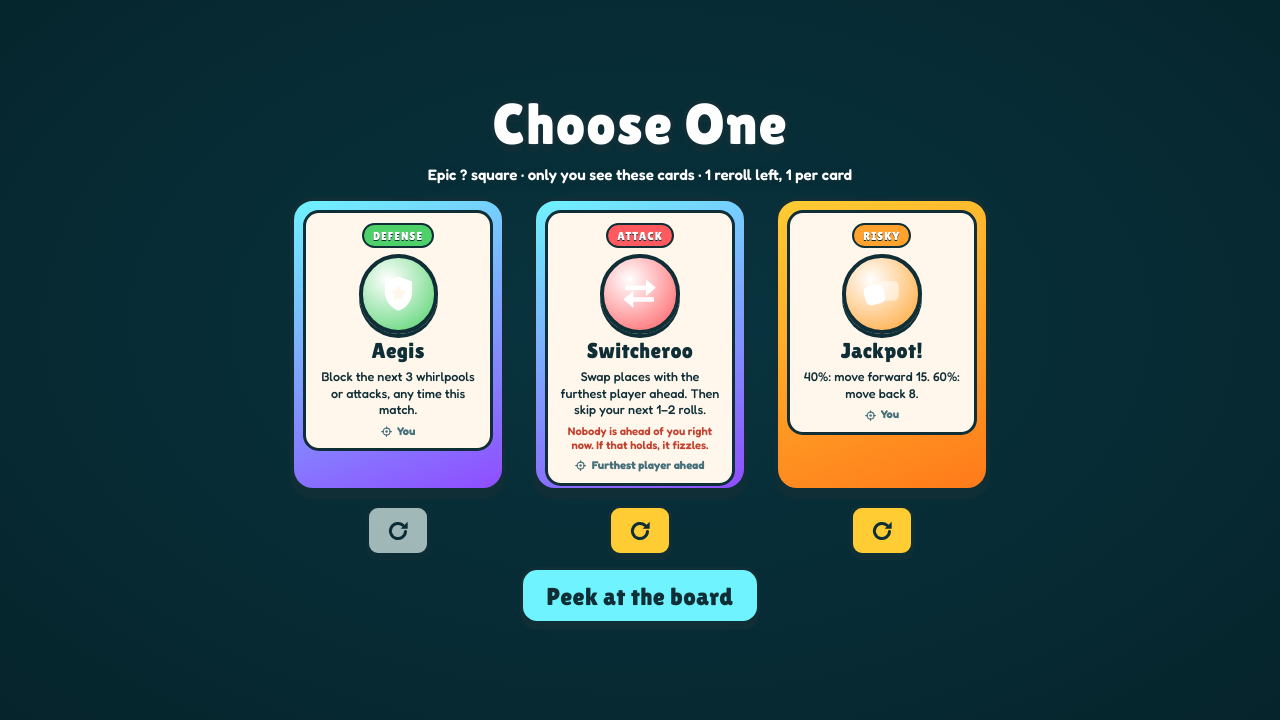
Test case: CardPickPopup (spec #2 §7.2) › rerolls a card once, and disables rerolls that are used or run out
Expected: the button named "Reroll Aegis" is disabled, [366,505,430,556]
Click the button named "Reroll Jackpot!" at (882, 531), box [850,505,914,556]
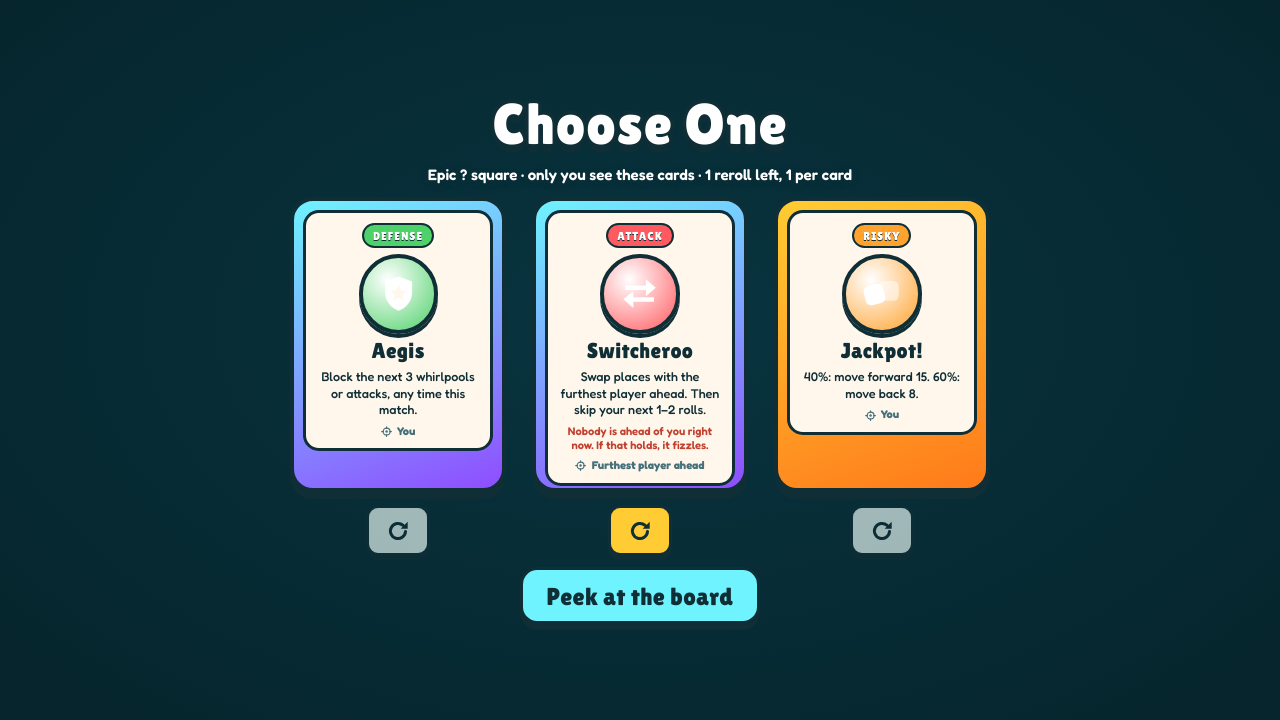
Expected: the dialog shows "1 reroll left", [428,165,852,184]
Result: the button named "Reroll Jackpot!" is disabled at [850,505,914,556]
